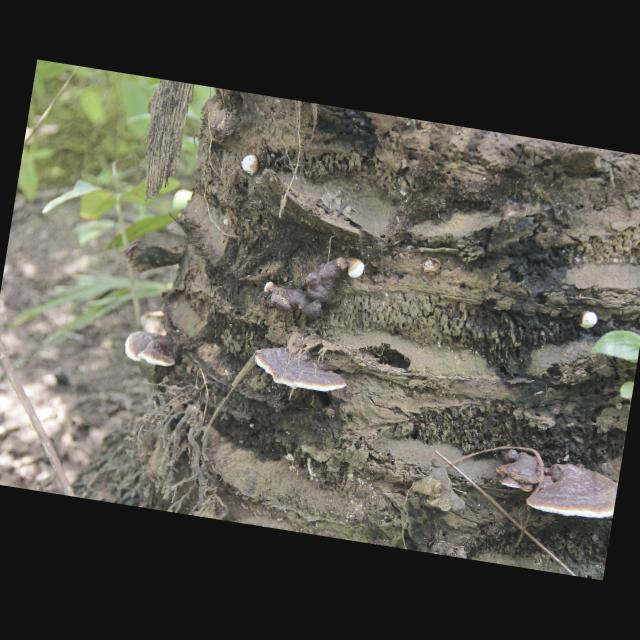ganoderma: (269, 249, 350, 329), (526, 459, 621, 525), (250, 342, 352, 399), (123, 330, 180, 370), (494, 448, 542, 495)
primordium: (241, 154, 262, 177), (577, 311, 600, 332), (347, 259, 367, 281), (265, 282, 277, 295), (224, 220, 230, 228)
